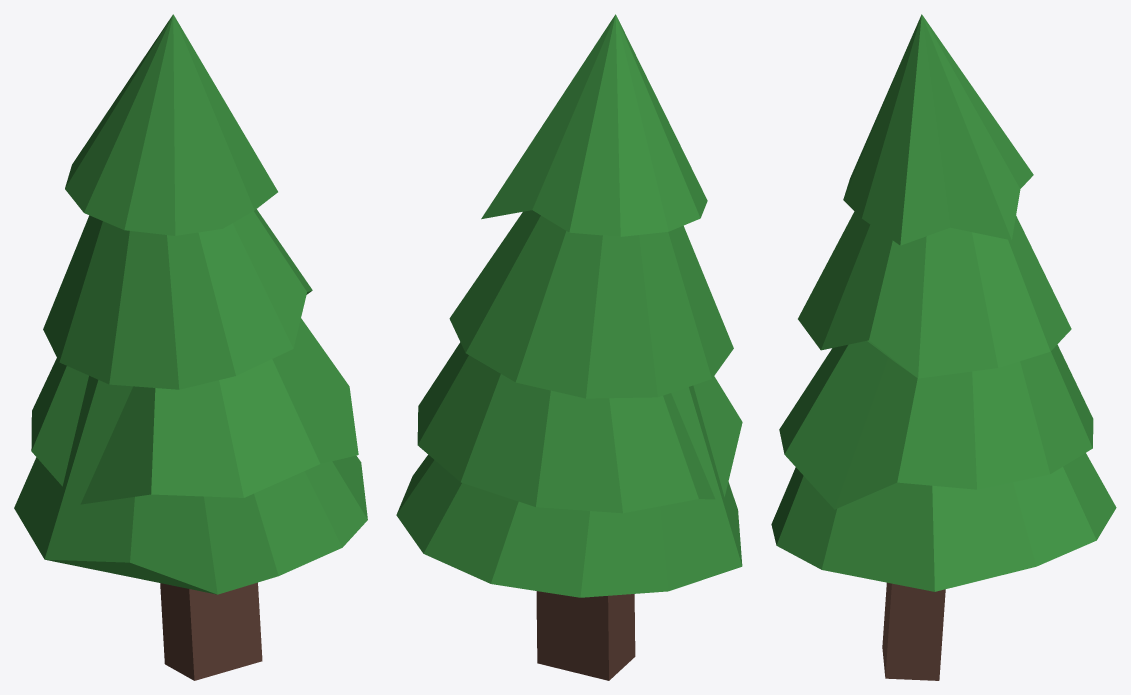
The picture shows the model from 3 angles, left to right: view 1: azimuth 30°, elevation 25°; view 2: azimuth 150°, elevation 25°; view 3: azimuth 270°, elevation 25°; orthographic projection. The views are drawn at different scales.
Visible parts, largest first — view 1: node_MeshObject-1441052864-PolyPaper10; view 2: node_MeshObject-1441052864-PolyPaper10; view 3: node_MeshObject-1441052864-PolyPaper10.
Part boxes in pixels (x1,y1,x2,y2): node_MeshObject-1441052864-PolyPaper10: (14,14,367,680); node_MeshObject-1441052864-PolyPaper10: (396,14,742,680); node_MeshObject-1441052864-PolyPaper10: (771,14,1116,680).
Size of the model in its own units: 1.66 by 3.24 by 1.59.
